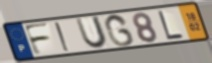8: (131, 11, 159, 44)
F: (22, 22, 53, 57)
G: (103, 13, 137, 48)
I: (53, 21, 72, 53)
L: (157, 10, 186, 41)
U: (74, 14, 109, 50)
